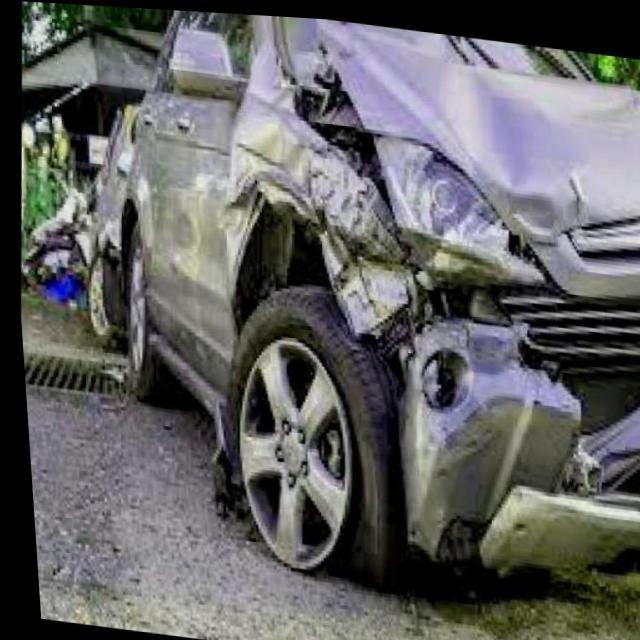Car-Damage: (182, 8, 640, 611)
